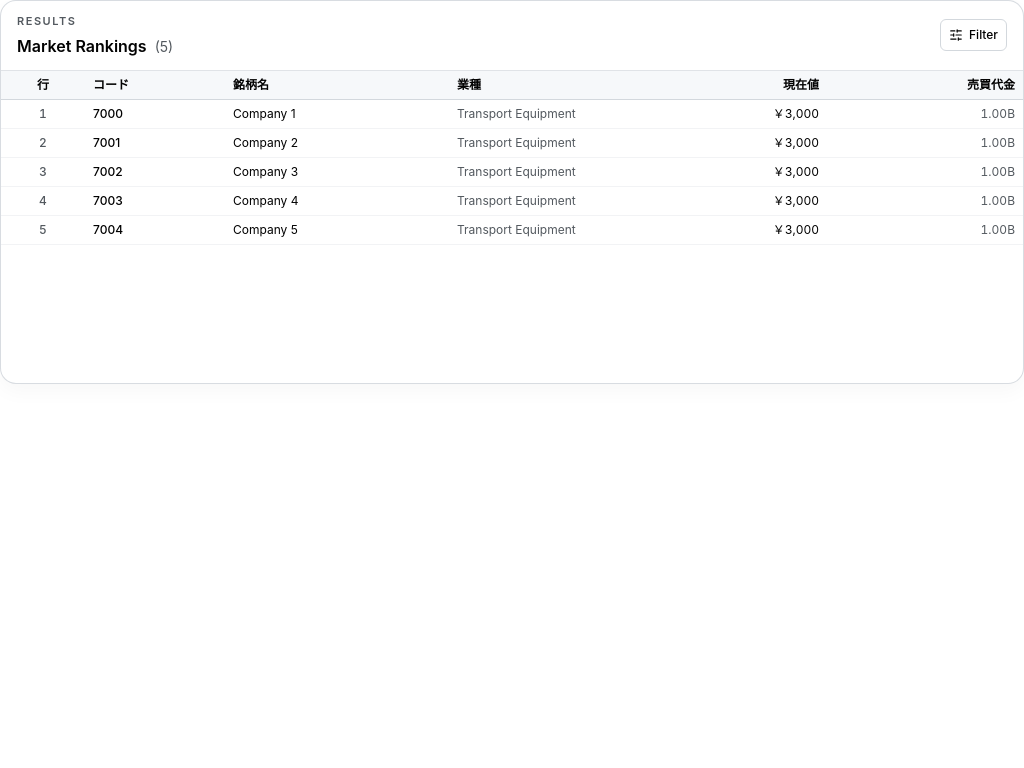
Test: RankingTable › closes the table filter dialog with the Close button and Escape
Click the button "Filter" at (974, 35), box [940, 19, 1007, 51]
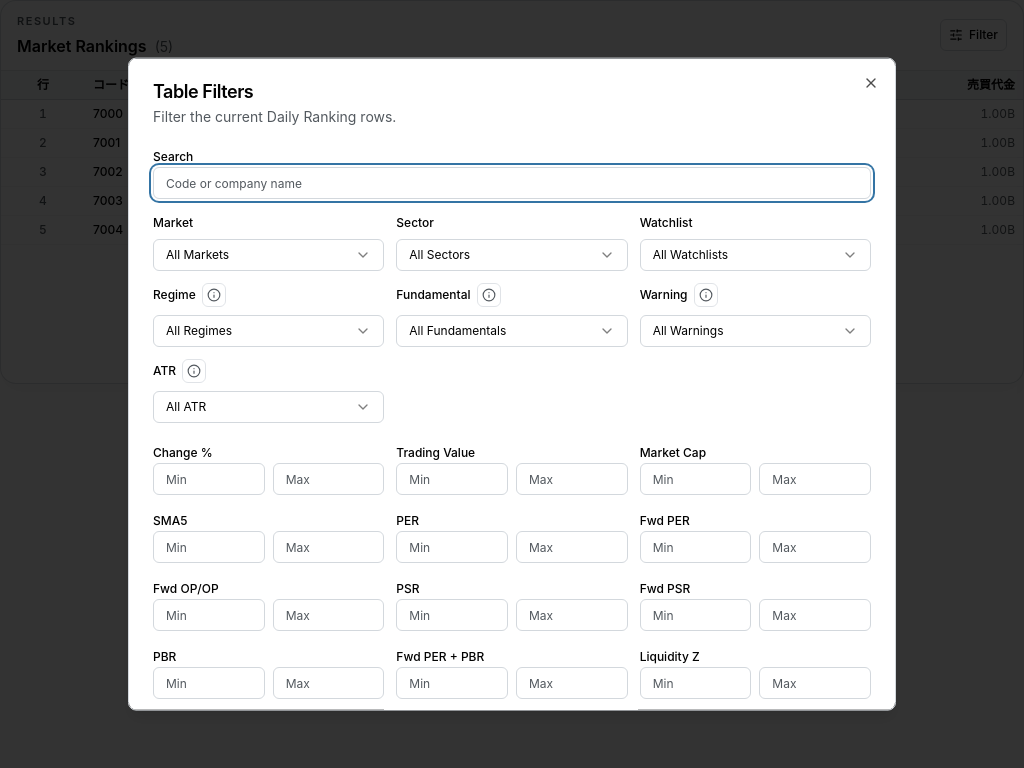
Check: the dialog "Table Filters" is shown
Check: the number of buttons "Close" is 2
Press Escape
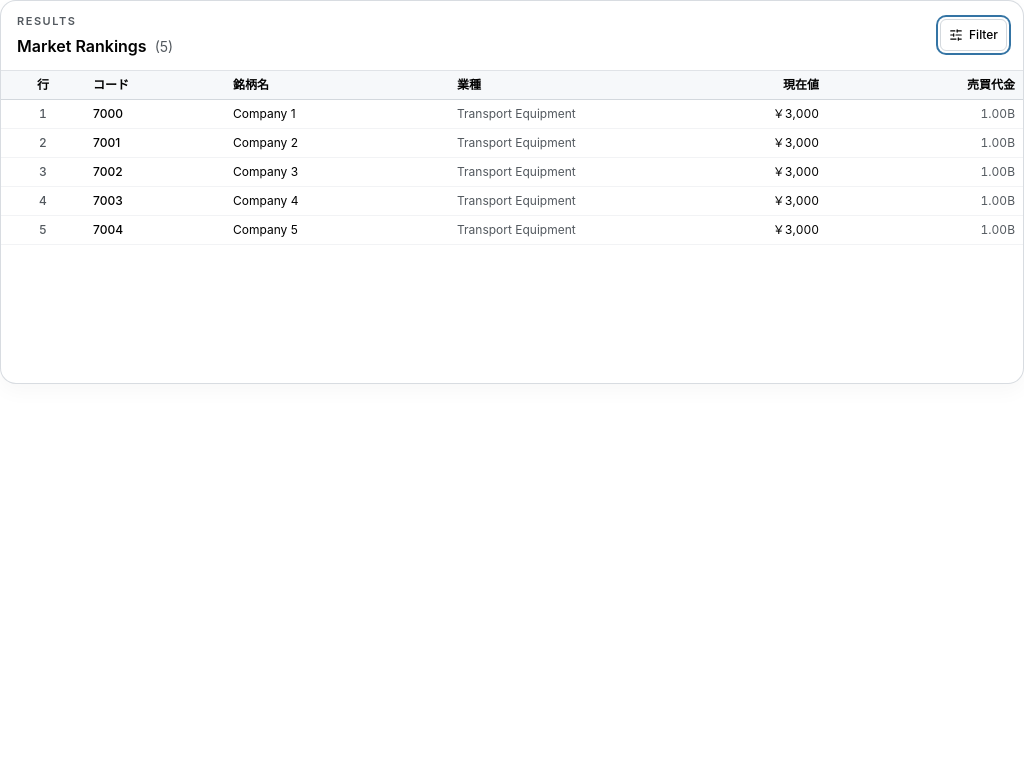
Check: the heading "Table Filters" is gone
Click the button "Filter" at (974, 35), box [940, 19, 1007, 51]
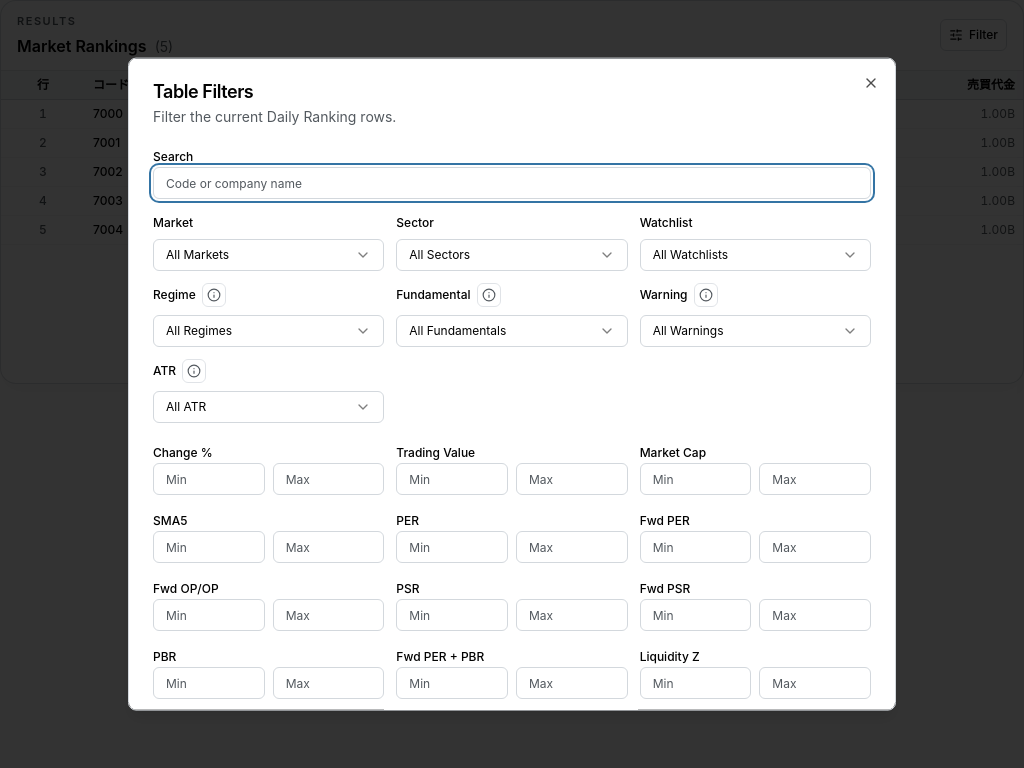
Click the button named "Close" at (871, 83), box [863, 75, 879, 91]
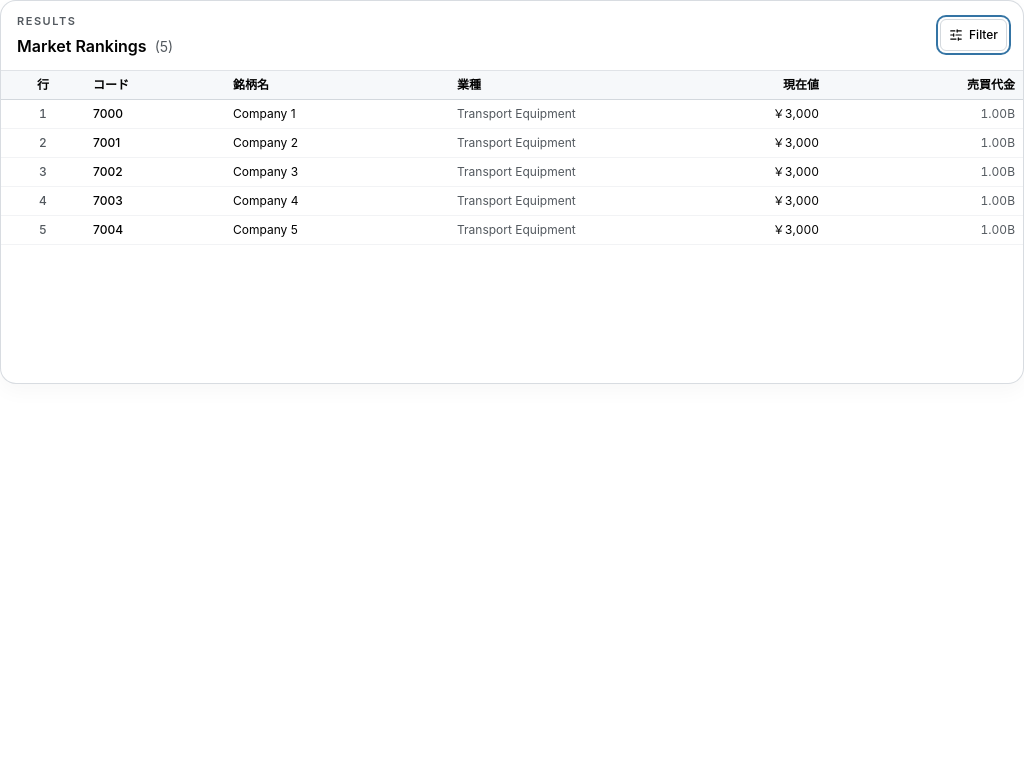
Check: the heading "Table Filters" is gone
